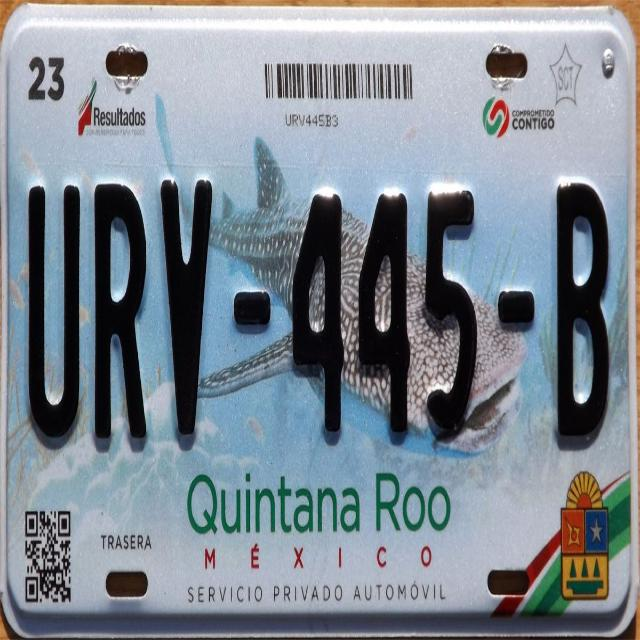placa: (7, 160, 629, 464)
